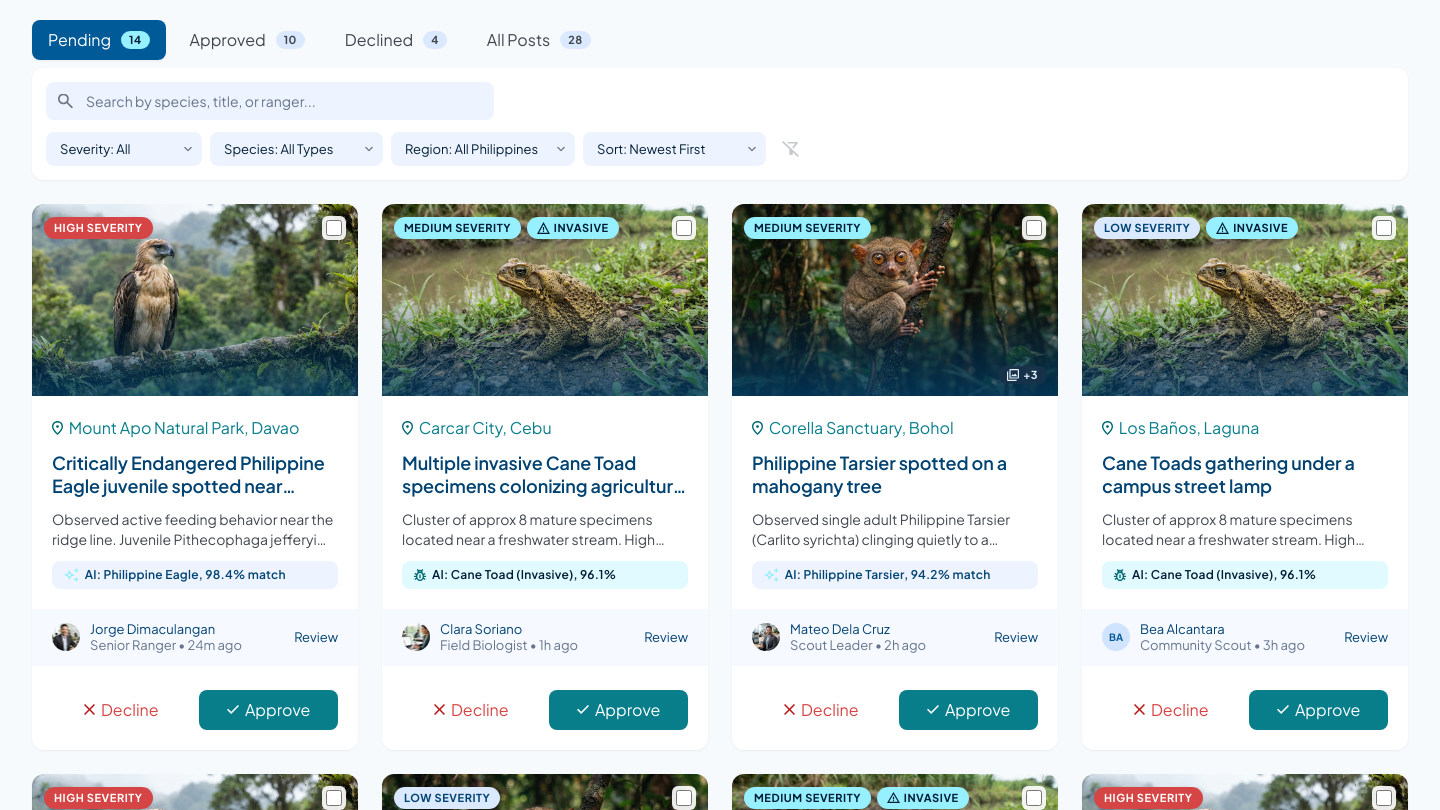
Test: PostApprovalsScreen › shows the empty state when the search matches nothing
This screenshot has width=1440, height=810.
Type "zzz-no-match" into the search field named "Search posts" at (270, 101), box [46, 82, 494, 120]
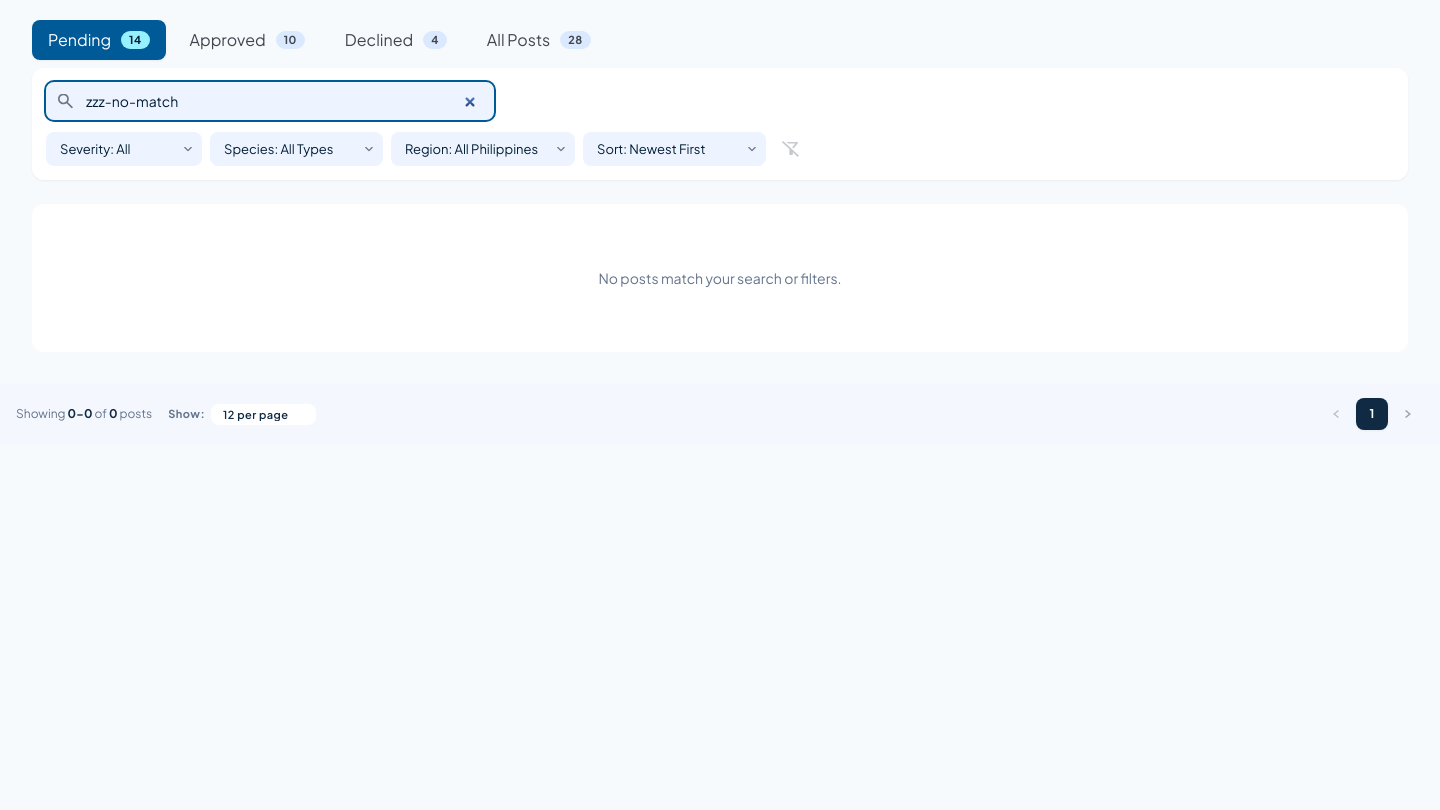
Result: the text "No posts match your search or filters." is shown at [32, 204, 1408, 352]
